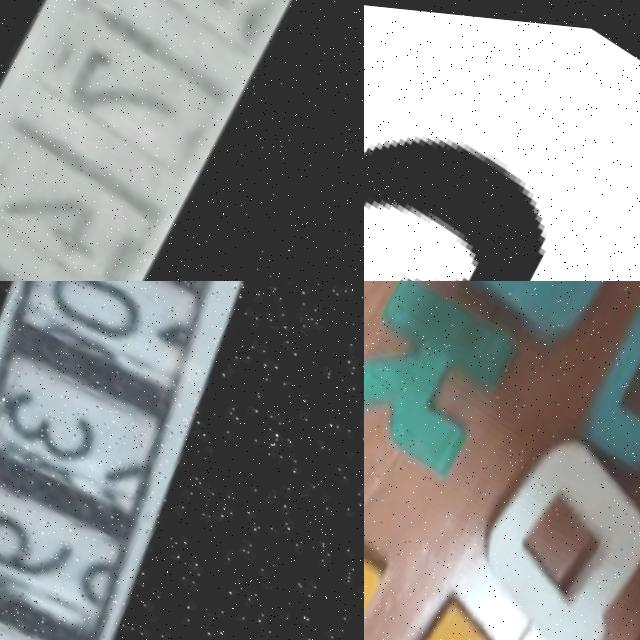0: (18, 281, 159, 360)
3: (364, 0, 640, 281), (0, 350, 112, 478)
4: (0, 141, 119, 281)
7: (45, 17, 195, 155)
9: (0, 478, 79, 602)
J: (427, 281, 640, 362)
K: (364, 281, 523, 484)
P: (558, 281, 640, 503)
Q: (431, 400, 640, 640)
R: (364, 573, 571, 640)
